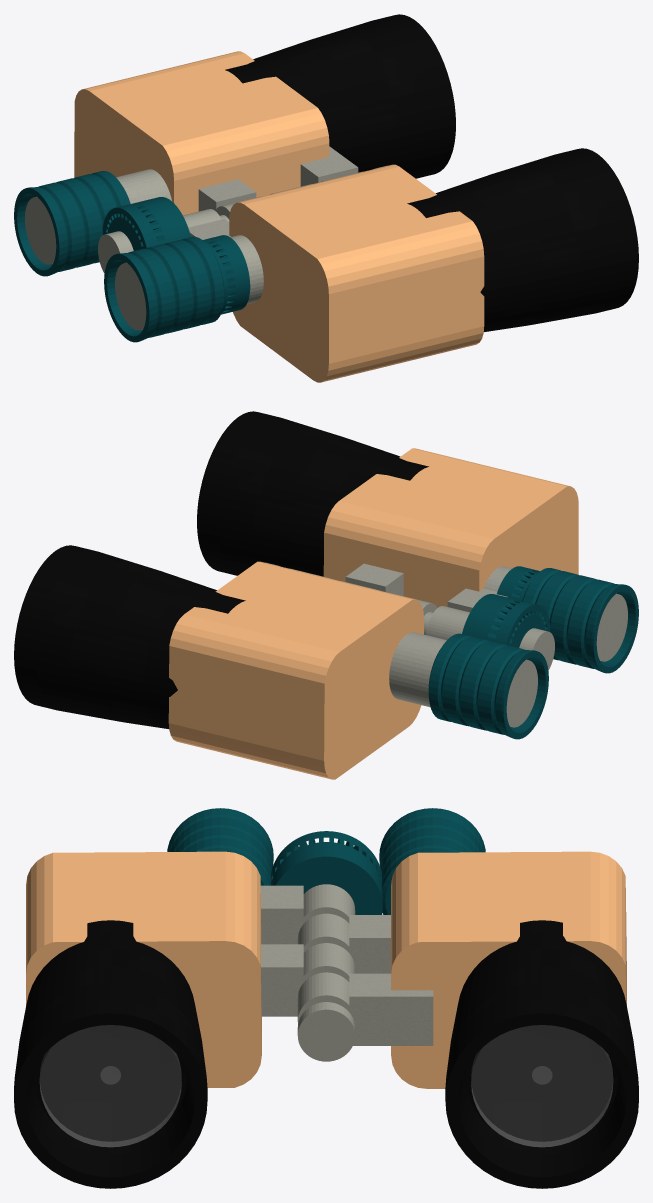
The model's file is Others_Binocular__0003.glb.
3 views of the same model, one above another, from view 1: azimuth 30°, elevation 25°; view 2: azimuth 150°, elevation 25°; view 3: azimuth 270°, elevation 25° (orthographic). The views are drawn at different scales.
Visible parts, largest first — view 1: right_barrel::prism_housing, left_barrel::prism_housing, right_barrel::objective_tube, left_barrel::objective_tube, eyecup_collar_1::collar, eyecup_collar_0::collar, focus_wheel::focus_wheel_knurl, diopter_ring::diopter_knurl, left_barrel::eyepiece_body, right_barrel::eyepiece_body, left_barrel::front_hinge_arm, left_barrel::eyepiece_tube (+4 smaller); view 2: left_barrel::prism_housing, right_barrel::prism_housing, left_barrel::objective_tube, right_barrel::objective_tube, eyecup_collar_0::collar, eyecup_collar_1::collar, focus_wheel::focus_wheel_knurl, left_barrel::eyepiece_tube, right_barrel::eyepiece_body, left_barrel::eyepiece_body, right_barrel::front_hinge_arm, right_barrel::rear_hinge_sleeve (+3 smaller); view 3: right_barrel::objective_tube, left_barrel::objective_tube, right_barrel::prism_housing, left_barrel::prism_housing, left_barrel::objective_lens, right_barrel::objective_lens, focus_wheel::focus_wheel_knurl, left_barrel::front_hinge_arm, eyecup_collar_0::collar, eyecup_collar_1::collar, right_barrel::front_hinge_arm, hinge_bridge::front_hinge_cap (+6 smaller).
Boxes of the visible parts, x1=… form: right_barrel::prism_housing: x1=229, y1=164, x2=484, y2=382; left_barrel::prism_housing: x1=74, y1=51, x2=329, y2=215; right_barrel::objective_tube: x1=407, y1=148, x2=638, y2=331; left_barrel::objective_tube: x1=225, y1=14, x2=455, y2=178; eyecup_collar_1::collar: x1=104, y1=236, x2=224, y2=342; eyecup_collar_0::collar: x1=14, y1=171, x2=130, y2=276; focus_wheel::focus_wheel_knurl: x1=102, y1=197, x2=190, y2=250; diopter_ring::diopter_knurl: x1=203, y1=235, x2=250, y2=314; left_barrel::eyepiece_body: x1=25, y1=196, x2=56, y2=264; right_barrel::eyepiece_body: x1=115, y1=262, x2=146, y2=330; left_barrel::front_hinge_arm: x1=300, y1=146, x2=358, y2=186; left_barrel::eyepiece_tube: x1=116, y1=169, x2=171, y2=203; left_barrel::prism_housing: x1=168, y1=561, x2=423, y2=779; right_barrel::prism_housing: x1=323, y1=448, x2=578, y2=607; left_barrel::objective_tube: x1=14, y1=545, x2=245, y2=728; right_barrel::objective_tube: x1=197, y1=411, x2=428, y2=576; eyecup_collar_0::collar: x1=428, y1=633, x2=548, y2=739; eyecup_collar_1::collar: x1=522, y1=568, x2=638, y2=673; focus_wheel::focus_wheel_knurl: x1=462, y1=594, x2=550, y2=647; left_barrel::eyepiece_tube: x1=389, y1=632, x2=446, y2=707; right_barrel::eyepiece_body: x1=596, y1=593, x2=627, y2=661; left_barrel::eyepiece_body: x1=506, y1=659, x2=537, y2=727; right_barrel::front_hinge_arm: x1=345, y1=563, x2=403, y2=595; right_barrel::rear_hinge_sleeve: x1=426, y1=606, x2=469, y2=639; right_barrel::objective_tube: x1=14, y1=920, x2=207, y2=1188; left_barrel::objective_tube: x1=445, y1=920, x2=638, y2=1188; right_barrel::prism_housing: x1=26, y1=851, x2=261, y2=1087; left_barrel::prism_housing: x1=391, y1=851, x2=626, y2=1088; left_barrel::objective_lens: x1=471, y1=1025, x2=612, y2=1146; right_barrel::objective_lens: x1=40, y1=1025, x2=181, y2=1146; focus_wheel::focus_wheel_knurl: x1=271, y1=831, x2=382, y2=914; left_barrel::front_hinge_arm: x1=349, y1=973, x2=433, y2=1045; eyecup_collar_0::collar: x1=379, y1=808, x2=485, y2=914; eyecup_collar_1::collar: x1=167, y1=808, x2=273, y2=885; right_barrel::front_hinge_arm: x1=261, y1=944, x2=303, y2=1016; hinge_bridge::front_hinge_cap: x1=297, y1=1002, x2=355, y2=1061.
Size of the model in its own units: 0.1914 by 0.064 by 0.2068.
6 materials, 2 textured.
